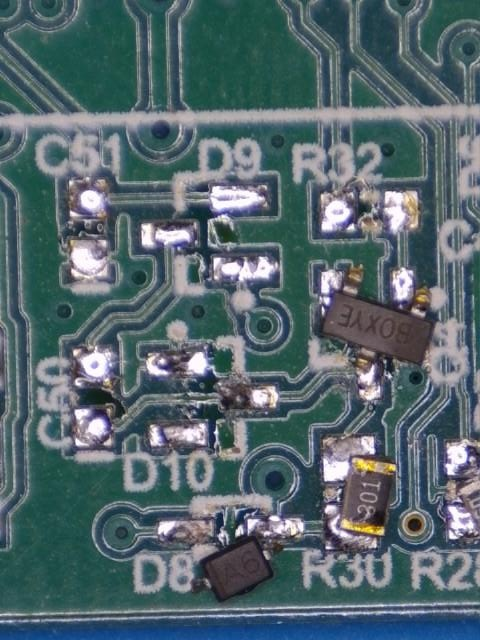pcb_defect: (319, 265, 435, 401), (190, 516, 304, 604), (323, 433, 398, 552), (444, 440, 480, 541)
